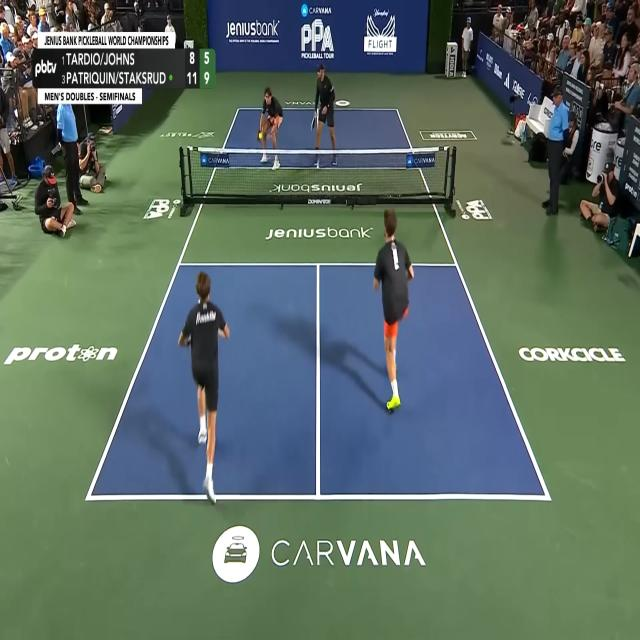ball: (258, 132, 262, 140)
